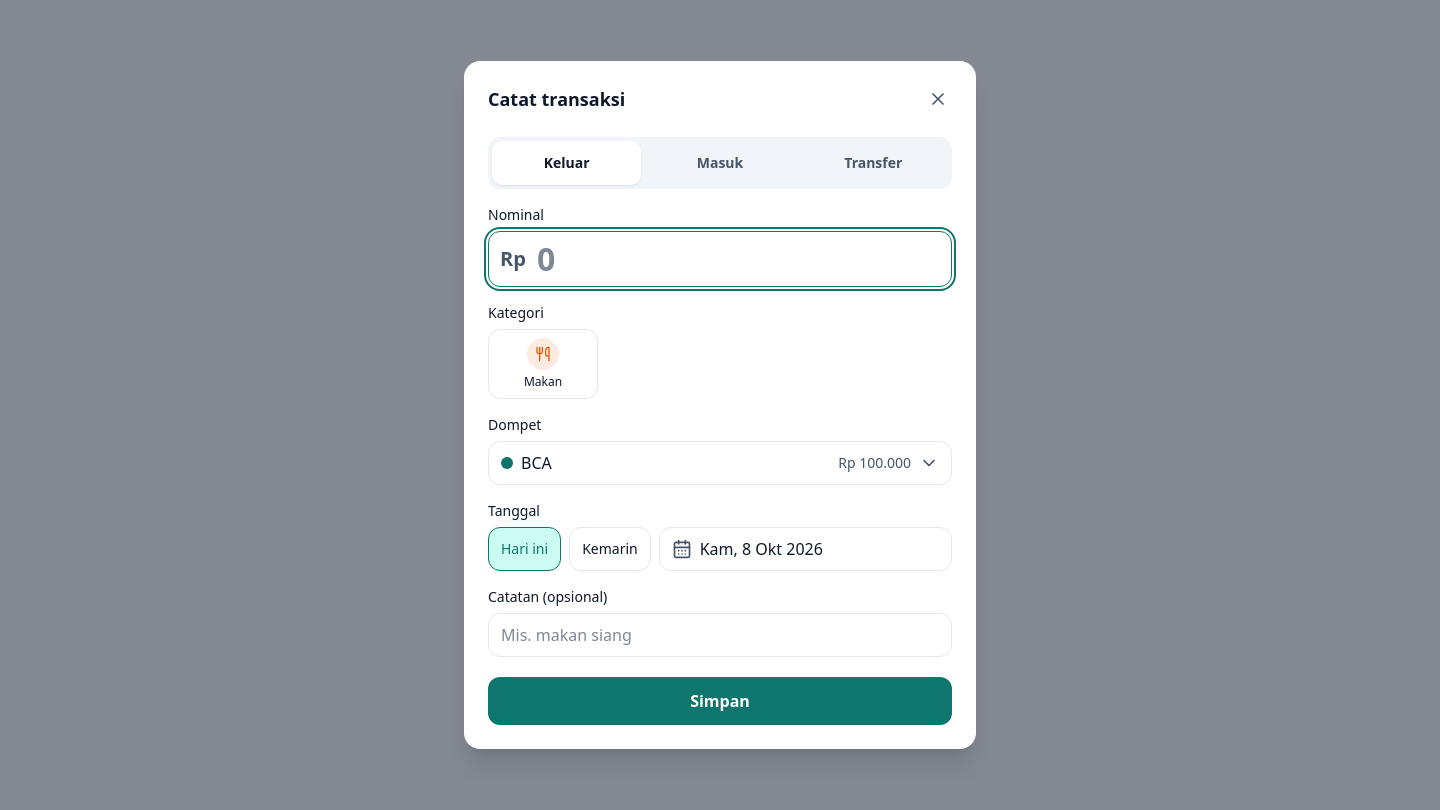
TransactionSheet (catat cepat) › menampilkan error saat nominal/kategori kosong tanpa memanggil API
The width and height of the screenshot is (1440, 810).
Expected: the field labelled "Nominal" is shown, [488, 231, 952, 287]
Click the button "Simpan" at (720, 701), box [488, 677, 952, 725]
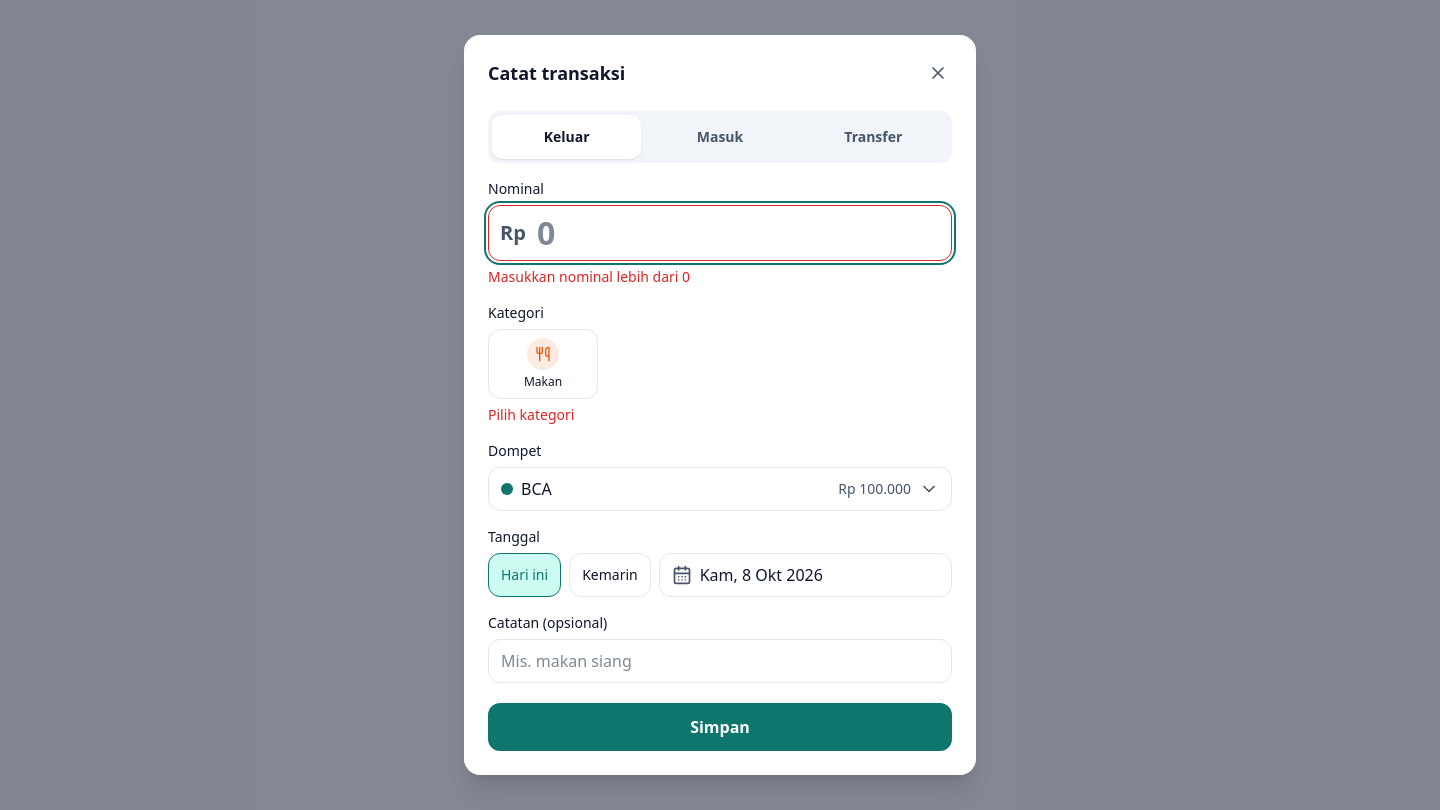
Now the text "Masukkan nominal lebih dari 0" is shown, box [488, 267, 690, 286]
Now the text "Pilih kategori" is shown, box [488, 405, 574, 424]
